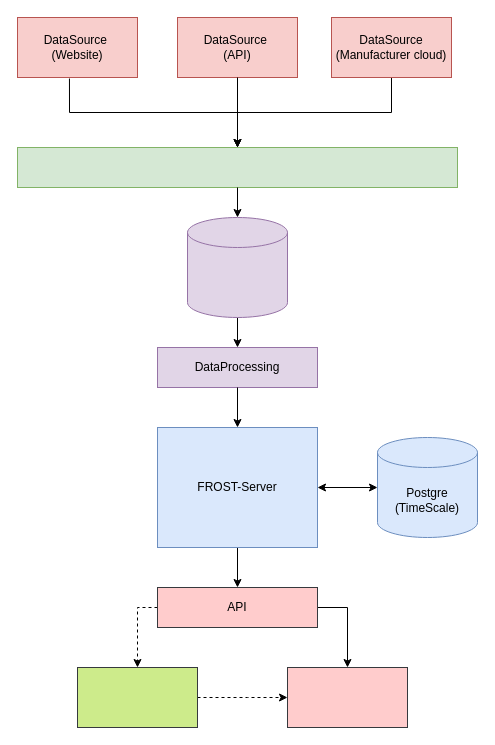
Some shapes in this 495 by 745 pixel diagram are drawn without their labels. Here are the shapes that lost their labels. From the top down, the box of each, then its label:
(16, 146, 458, 188): Data Collector
(186, 216, 288, 318): DataStorage (RawData)
(76, 666, 198, 728): MaschineLearnig
(286, 666, 408, 728): Dashboard
